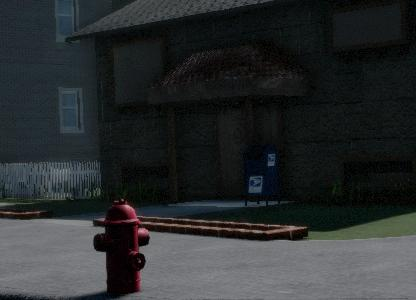Speed_30: (30, 47, 100, 119)
